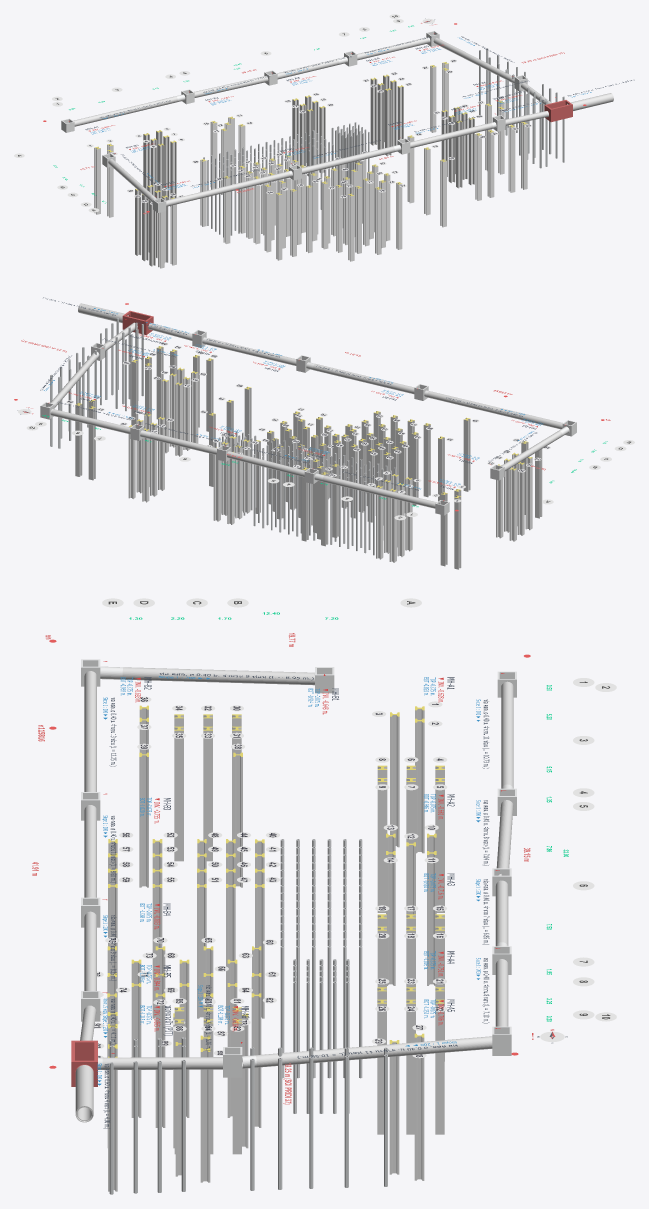
3 views of the same model, one above another, from view 1: azimuth 30°, elevation 25°; view 2: azimuth 150°, elevation 25°; view 3: azimuth 270°, elevation 25° (orthographic). The views are drawn at different scales.
Visible parts, largest first — view 1: Pile_59, Pile_91, Pile_92, Pile_52, Pile_21, Pile_23, PIT [DISCHARGE_RETENTION_PIT], Pile_39, Pile_48, Pile_58, Pile_80, Pile_56 (+35 smaller); view 2: Pile_30, Pile_39, Pile_56, Pile_32, Pile_1, Pile_34, Pile_85, Pile_81, Pile_5, Pile_10, Pile_21, Pile_4 (+32 smaller); view 3: Pile_28, Pile_88, Pile_39, Pile_29, Pile_35, Pile_3, Pile_2, Pile_33, Pile_9, Pile_14, Pile_22, Pile_11 (+16 smaller).
Boxes of the visible parts, x1,y1,x2,y2 form: Pile_59: (321, 181, 328, 249); Pile_91: (487, 130, 494, 197); Pile_92: (508, 125, 515, 192); Pile_52: (264, 184, 271, 252); Pile_21: (370, 77, 377, 145); Pile_23: (377, 83, 384, 149); PIT [DISCHARGE_RETENTION_PIT]: (544, 100, 572, 122); Pile_39: (223, 176, 230, 243); Pile_48: (253, 176, 260, 244); Pile_58: (306, 185, 312, 253); Pile_80: (440, 159, 446, 227); Pile_56: (276, 192, 282, 260); Pile_30: (509, 467, 516, 541); Pile_39: (463, 417, 470, 491); Pile_56: (423, 423, 430, 497); Pile_32: (517, 462, 524, 535); Pile_1: (454, 495, 461, 569); Pile_34: (525, 457, 532, 530); Pile_85: (191, 371, 198, 443); Pile_81: (175, 382, 182, 456); Pile_5: (376, 485, 383, 559); Pile_10: (321, 472, 328, 546); Pile_21: (142, 428, 149, 502); Pile_4: (389, 488, 396, 562); Pile_28: (414, 1057, 424, 1180); Pile_88: (200, 1048, 210, 1182); Pile_39: (139, 752, 148, 887); Pile_29: (389, 1040, 399, 1174); Pile_35: (174, 726, 183, 861); Pile_3: (390, 712, 399, 847); Pile_2: (415, 718, 424, 853); Pile_33: (203, 726, 212, 861); Pile_9: (377, 778, 387, 912); Pile_14: (386, 851, 395, 985); Pile_22: (435, 999, 444, 1134); Pile_11: (427, 851, 436, 985).
Bounding box in the file's own units: 52.21 × 10.35 × 24.31.
